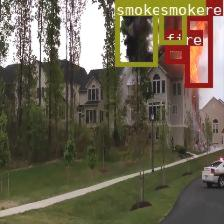fire: (184, 16, 212, 86), (165, 45, 185, 62)
smoke: (114, 0, 156, 65), (158, 0, 185, 43)
